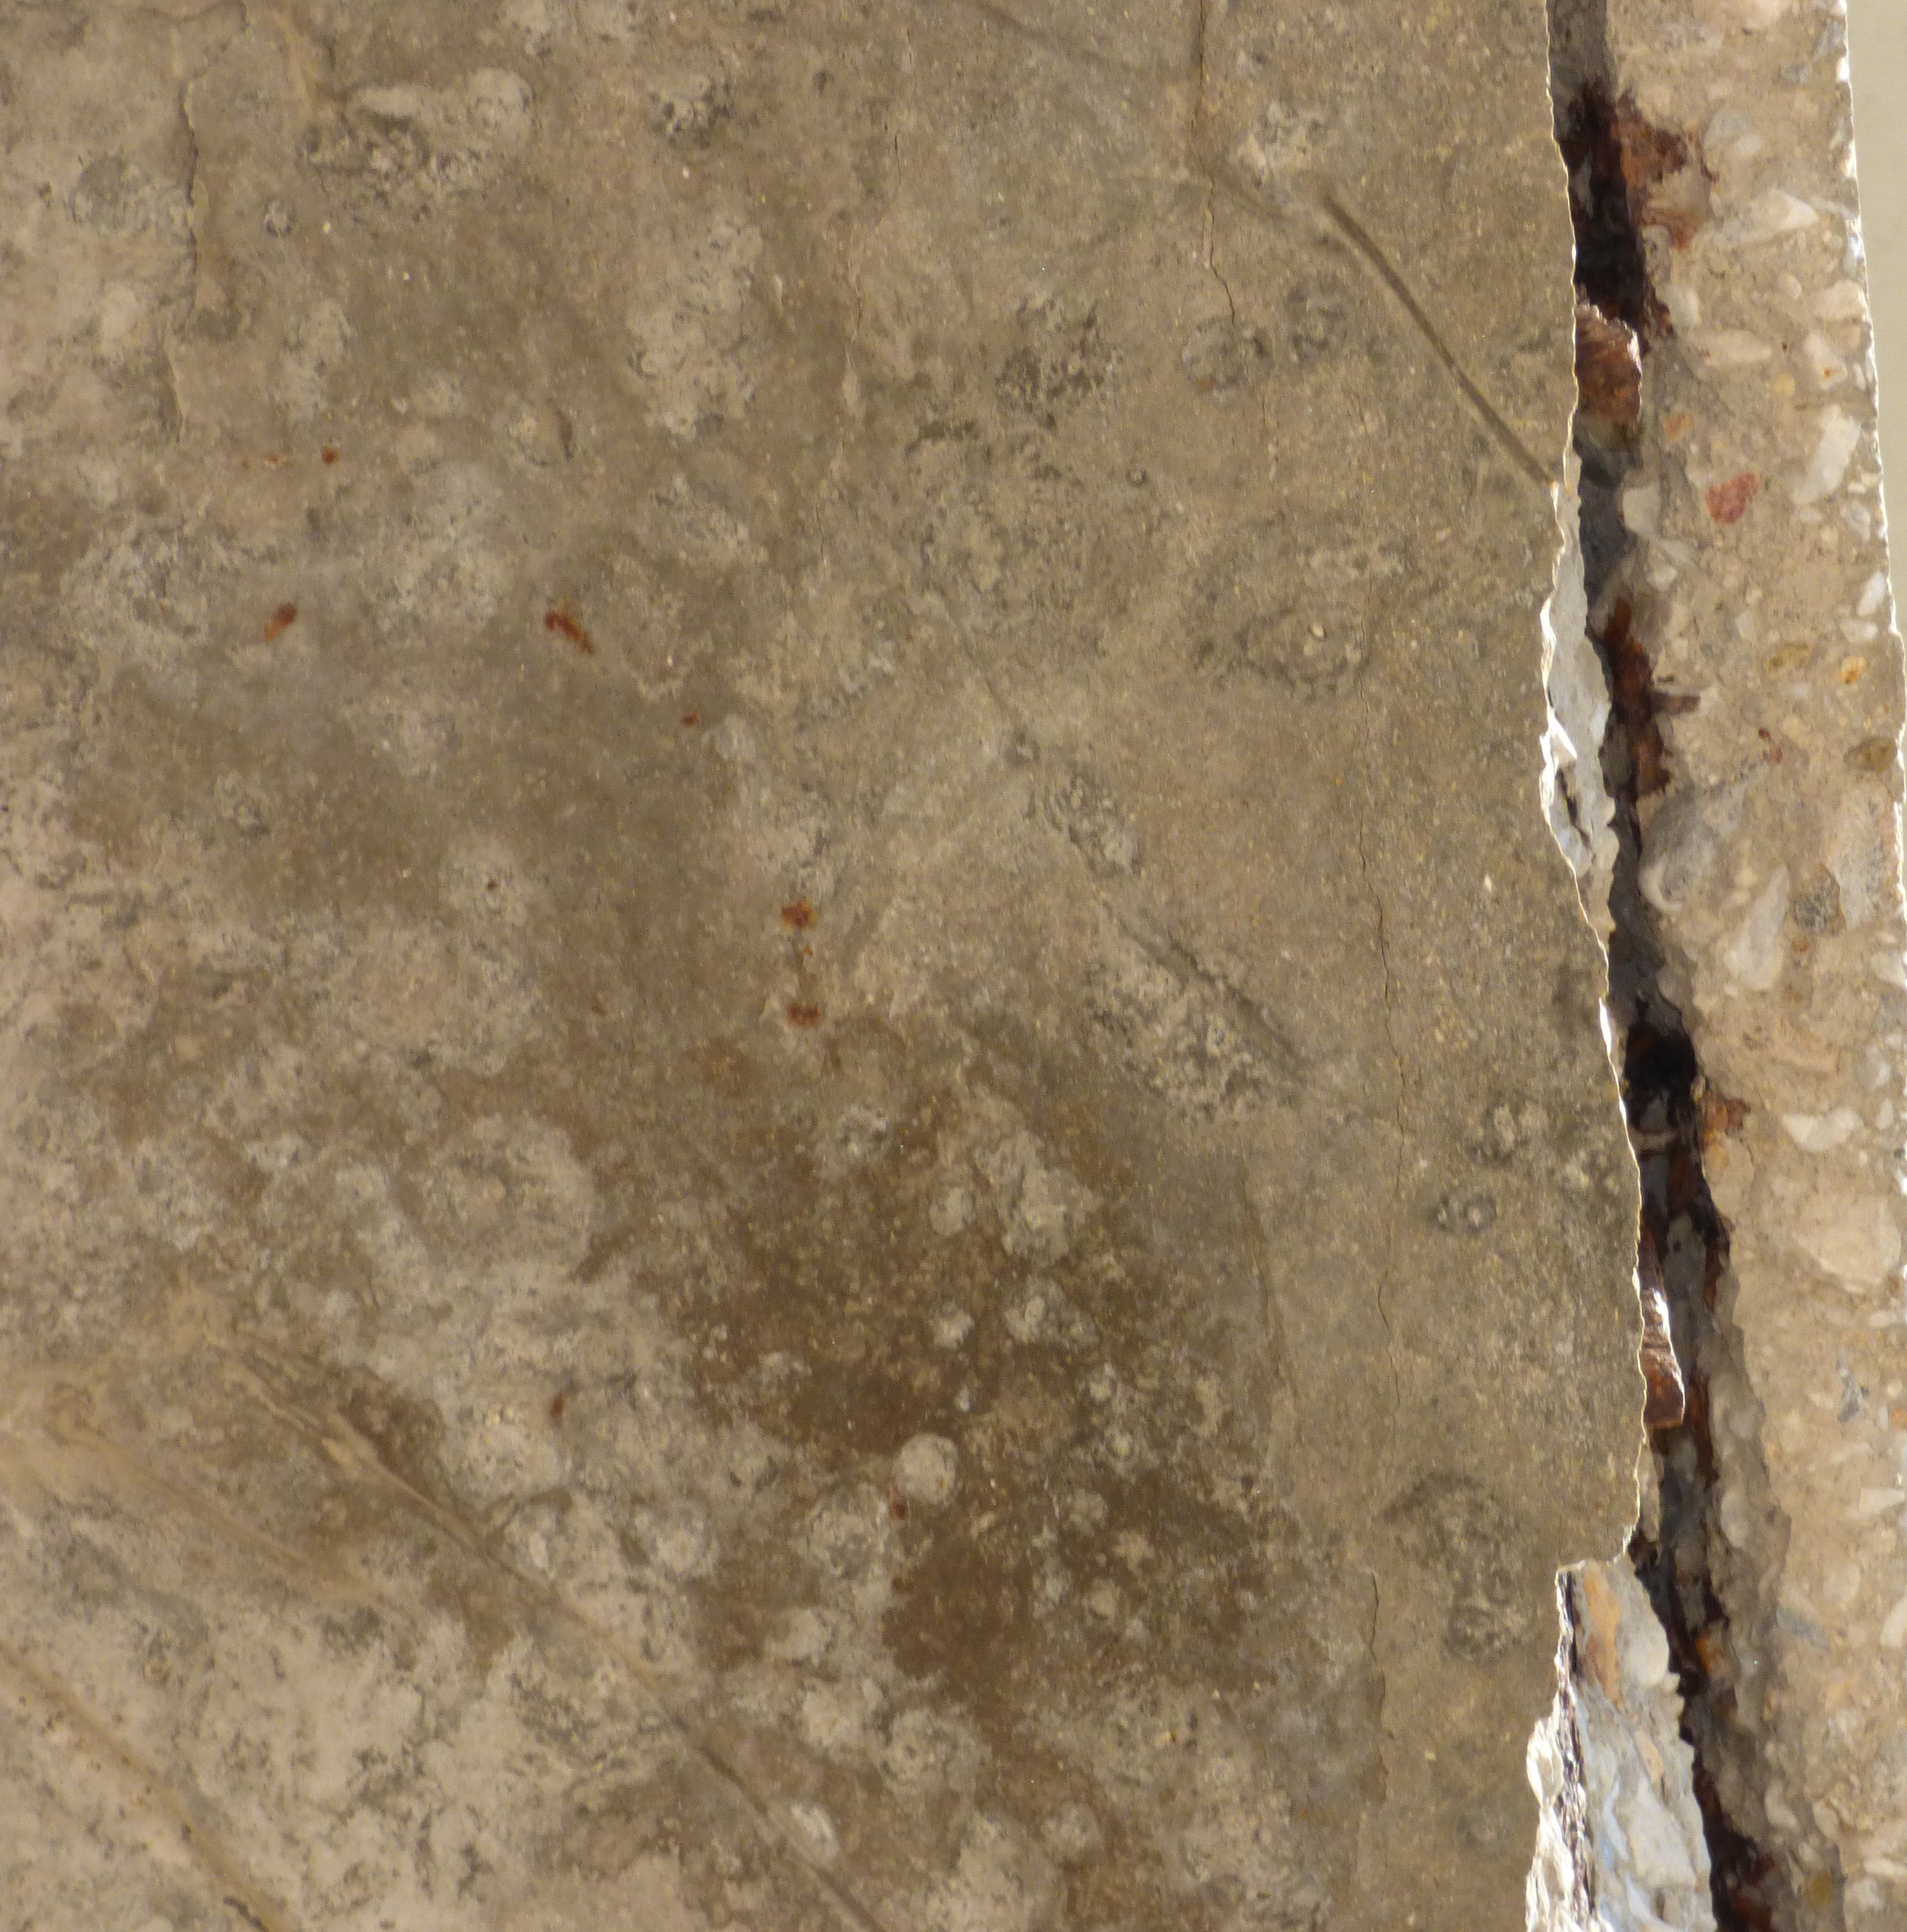Corrosion: (545, 608, 592, 659), (264, 599, 297, 643), (784, 1003, 821, 1031), (779, 901, 812, 929)
Exposed reinforcement: (1638, 1211, 1687, 1429), (1575, 281, 1640, 428)
Spalling: (1518, 0, 1907, 1932)
